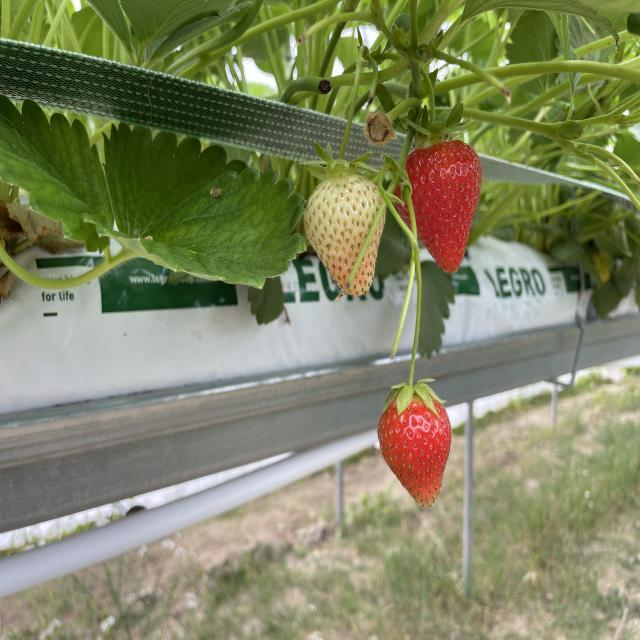stem: (0, 0, 640, 322), (384, 272, 440, 413), (307, 114, 380, 192)
strawberryNR: (303, 173, 384, 295)
strawberryR: (407, 140, 479, 271), (379, 400, 451, 506)
